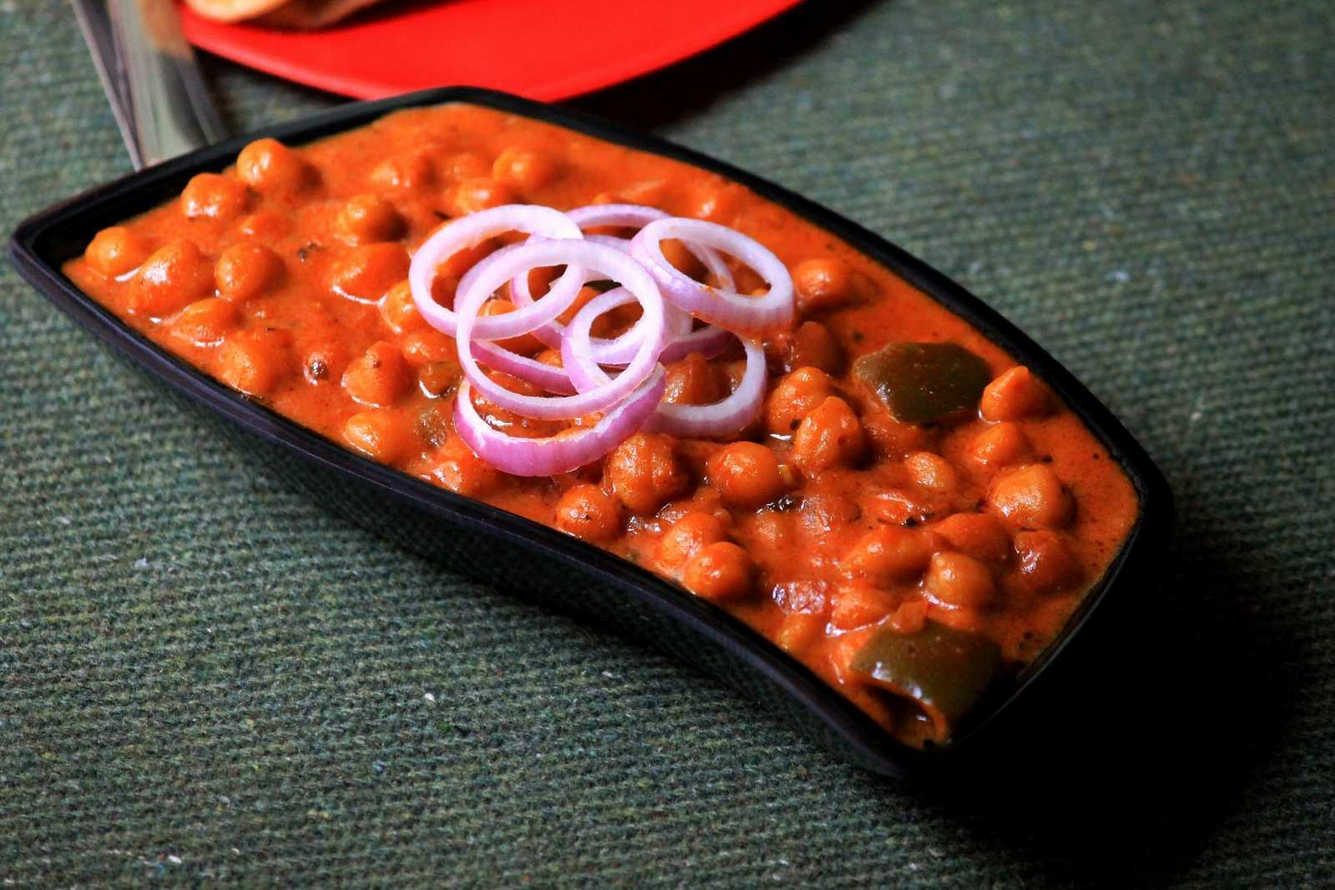Chole: (65, 103, 1134, 742)
